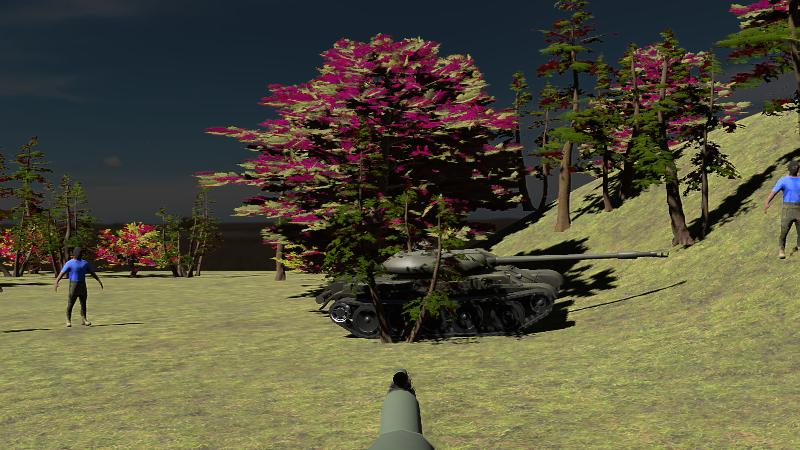Human: (55, 247, 103, 327), (764, 161, 800, 259)
Tank: (321, 245, 667, 341)
